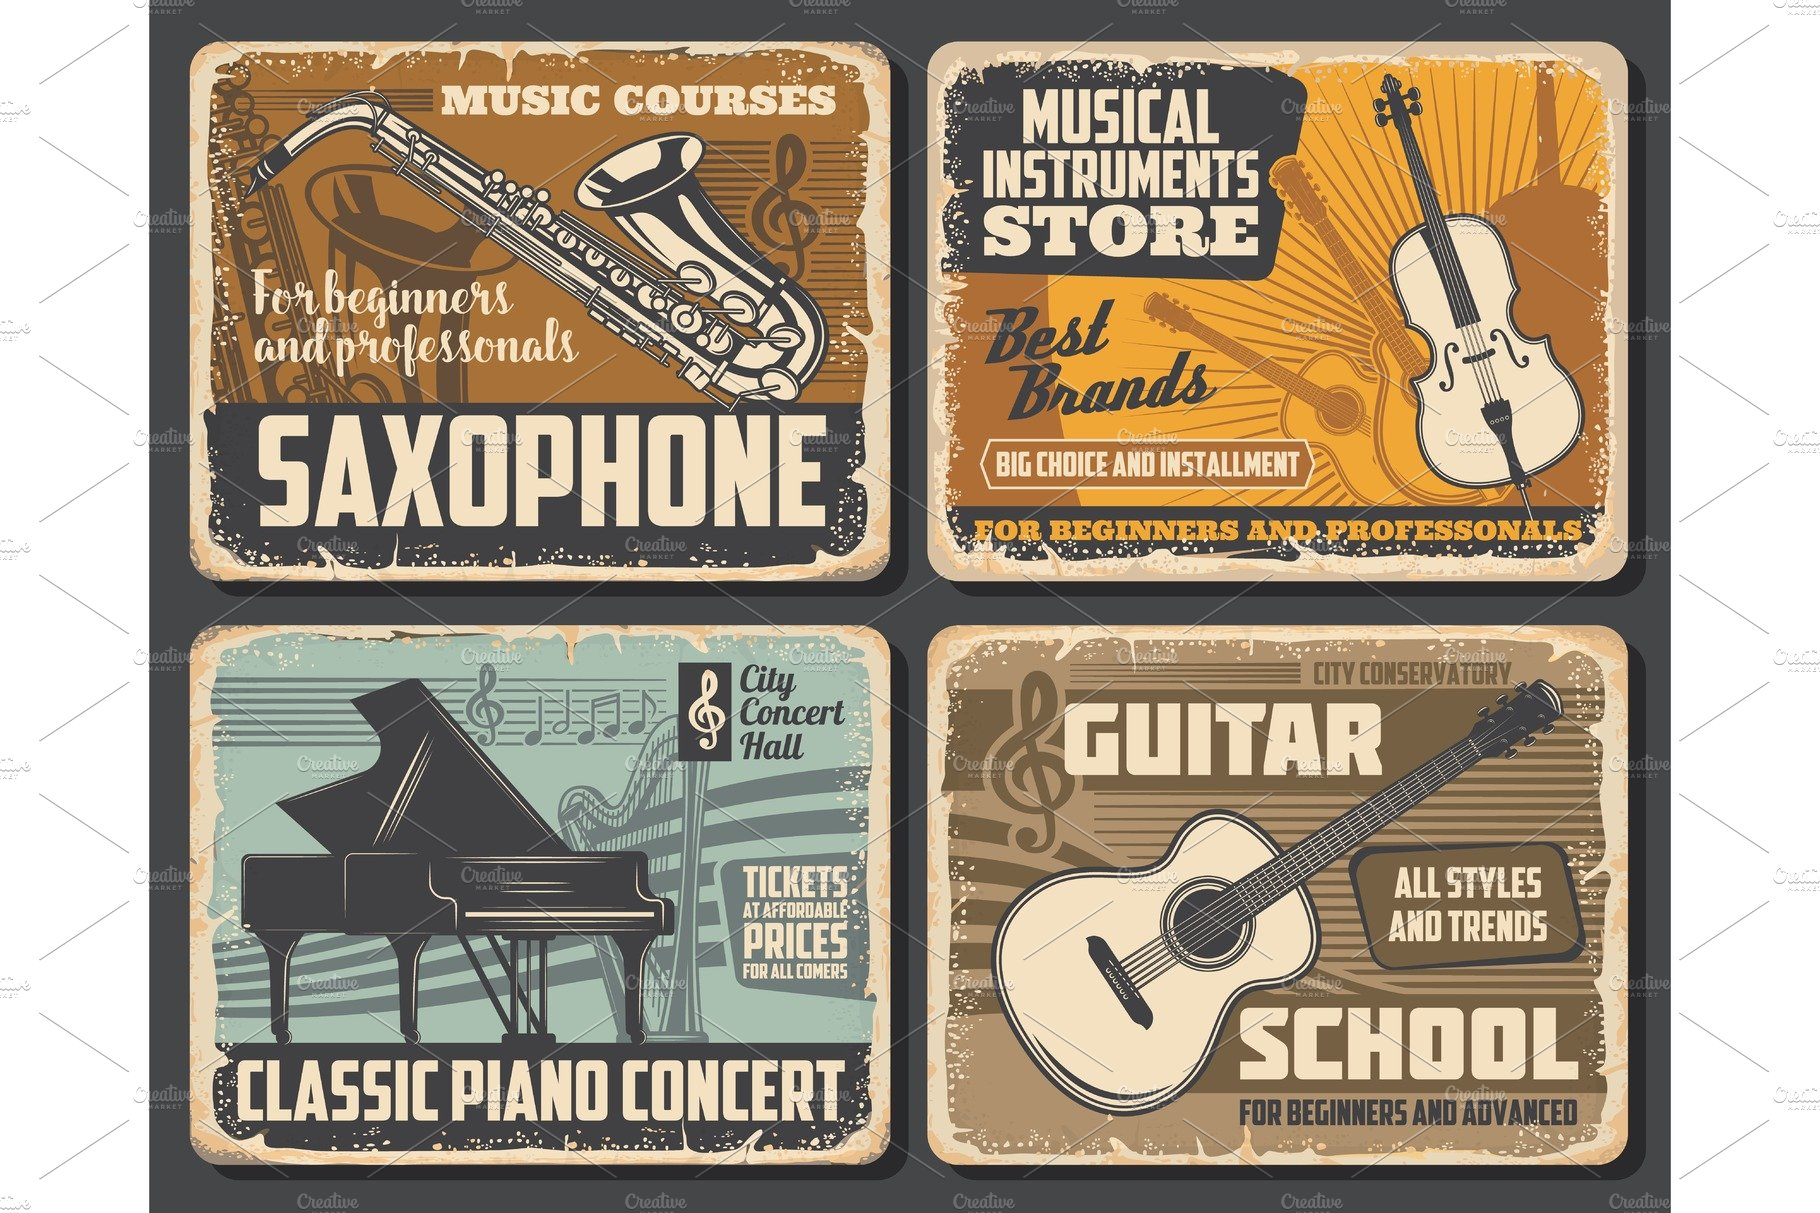Piano: (202, 647, 779, 1152)
Saxophone: (208, 87, 950, 524)
Violin: (1237, 76, 1624, 573)
